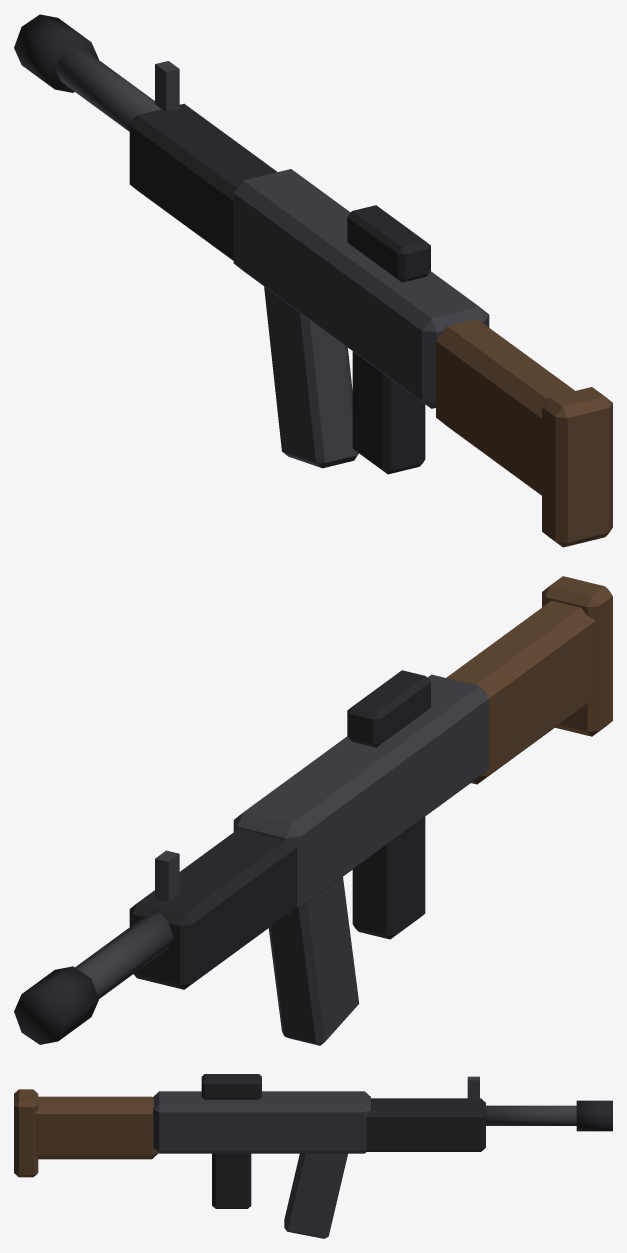
Rendered from weapon_rifle.glb.
3 views of the same model, one above another, from view 1: azimuth 30°, elevation 25°; view 2: azimuth 150°, elevation 25°; view 3: azimuth 270°, elevation 25° (orthographic). The views are drawn at different scales.
Visible parts, largest first — view 1: Gun; view 2: Gun; view 3: Gun.
Part boxes in pixels (bbox=[...]): Gun: bbox=[14, 14, 612, 547]; Gun: bbox=[14, 576, 612, 1045]; Gun: bbox=[14, 1074, 612, 1238].
Size of the model in its own units: 0.07 by 0.2872 by 0.99.
